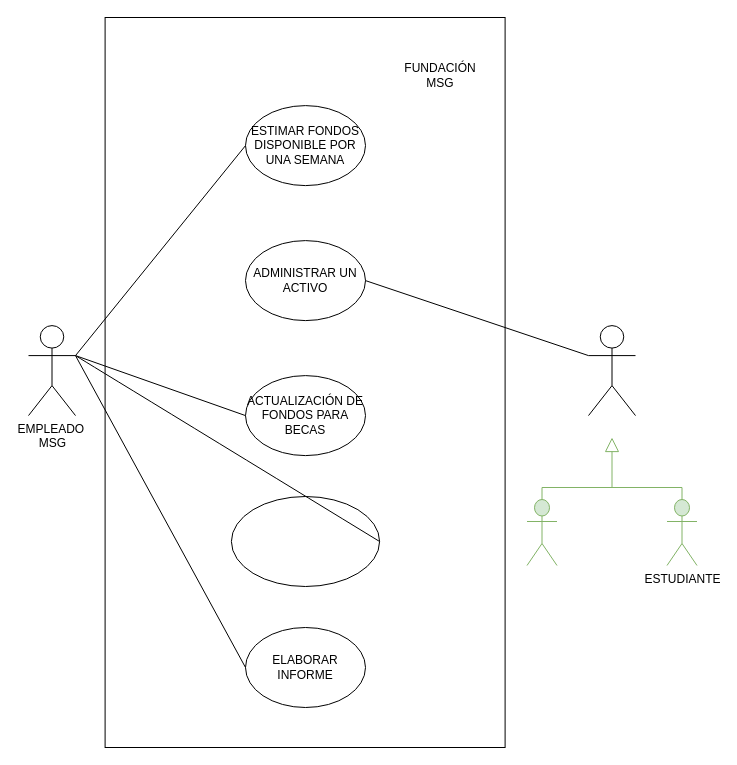
Image size: 737x765. Some labels were removed from this diagram. The shapes that lost their labels are listed below. From the top down, each one's centre as x and y in pixels, then its label:
the point at 612,370: DEUDOR
the point at 305,541: ACTUALIZAR GASTOS OPERATIVOS ANUALES ESTIMADOS
the point at 541,532: PAREJA
